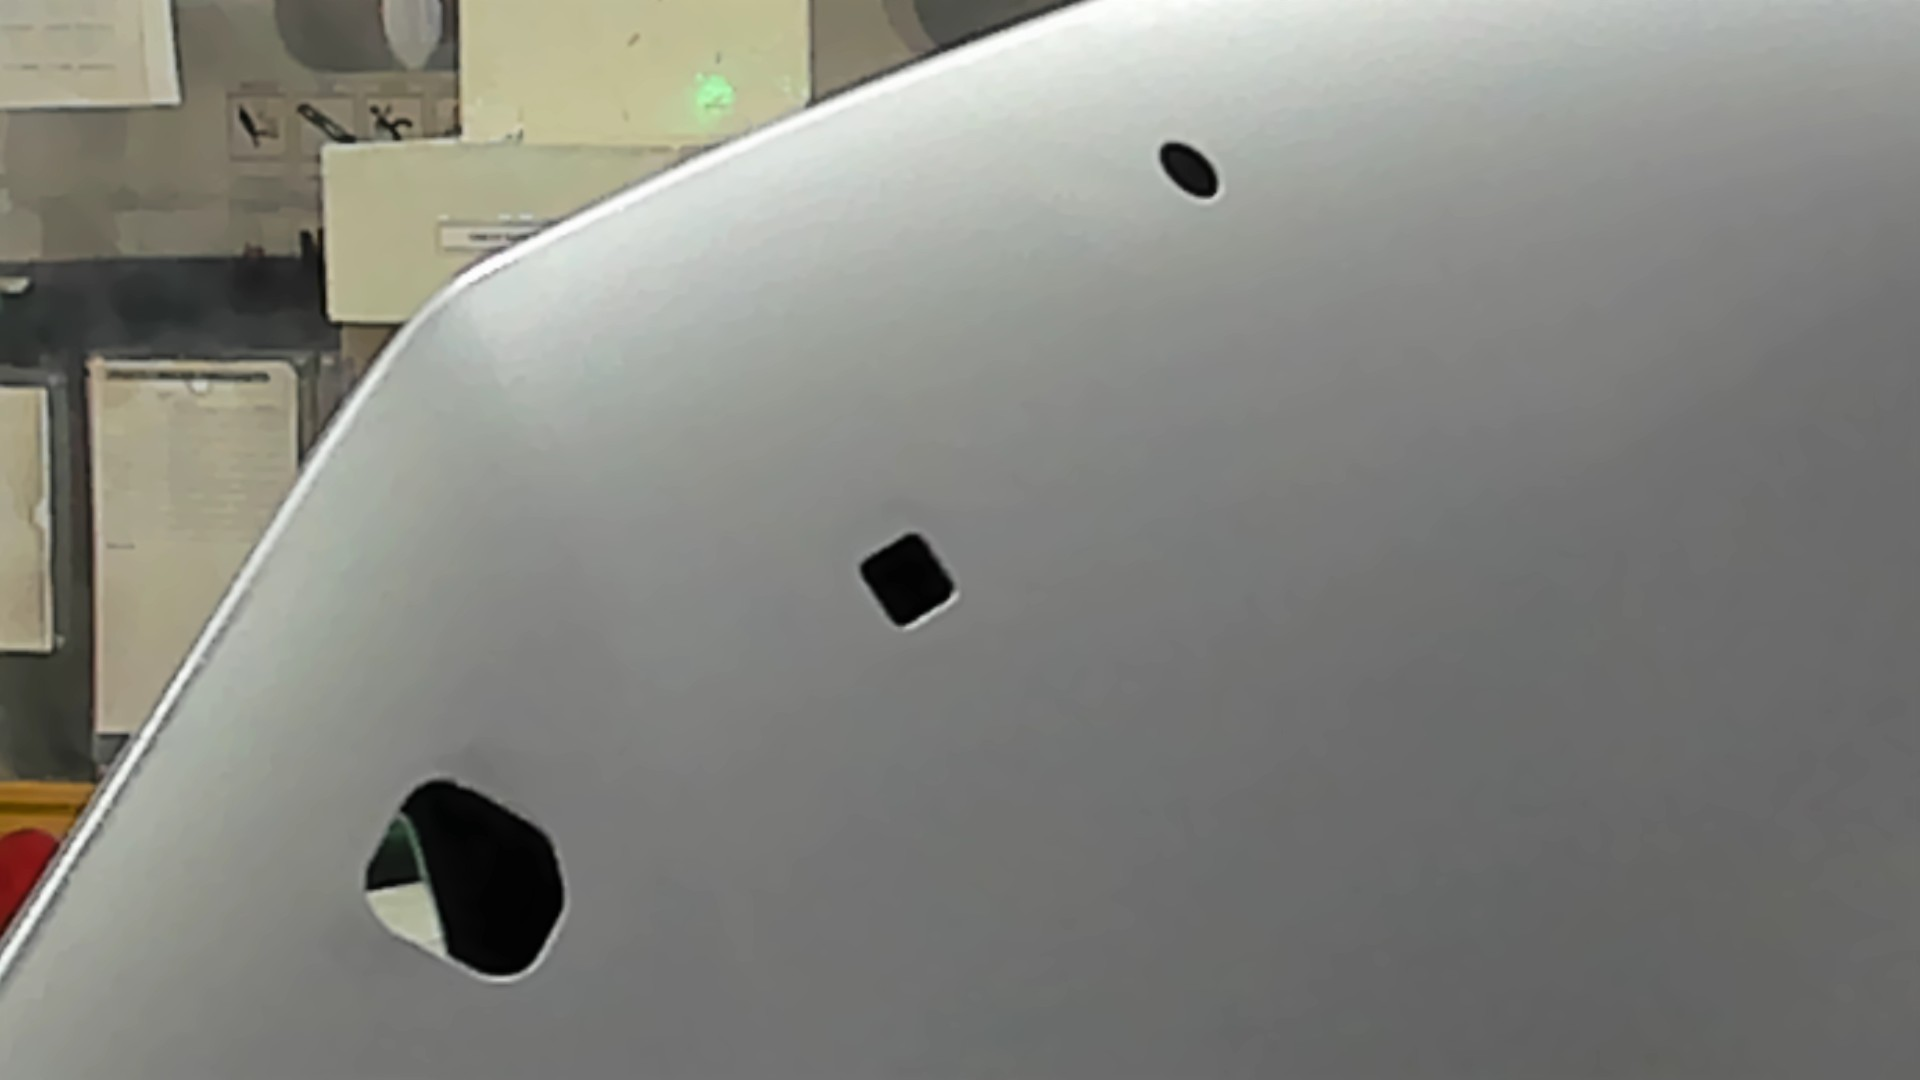chico: (1141, 123, 1234, 218)
grande: (343, 767, 578, 997)
mediano: (847, 517, 975, 641)
